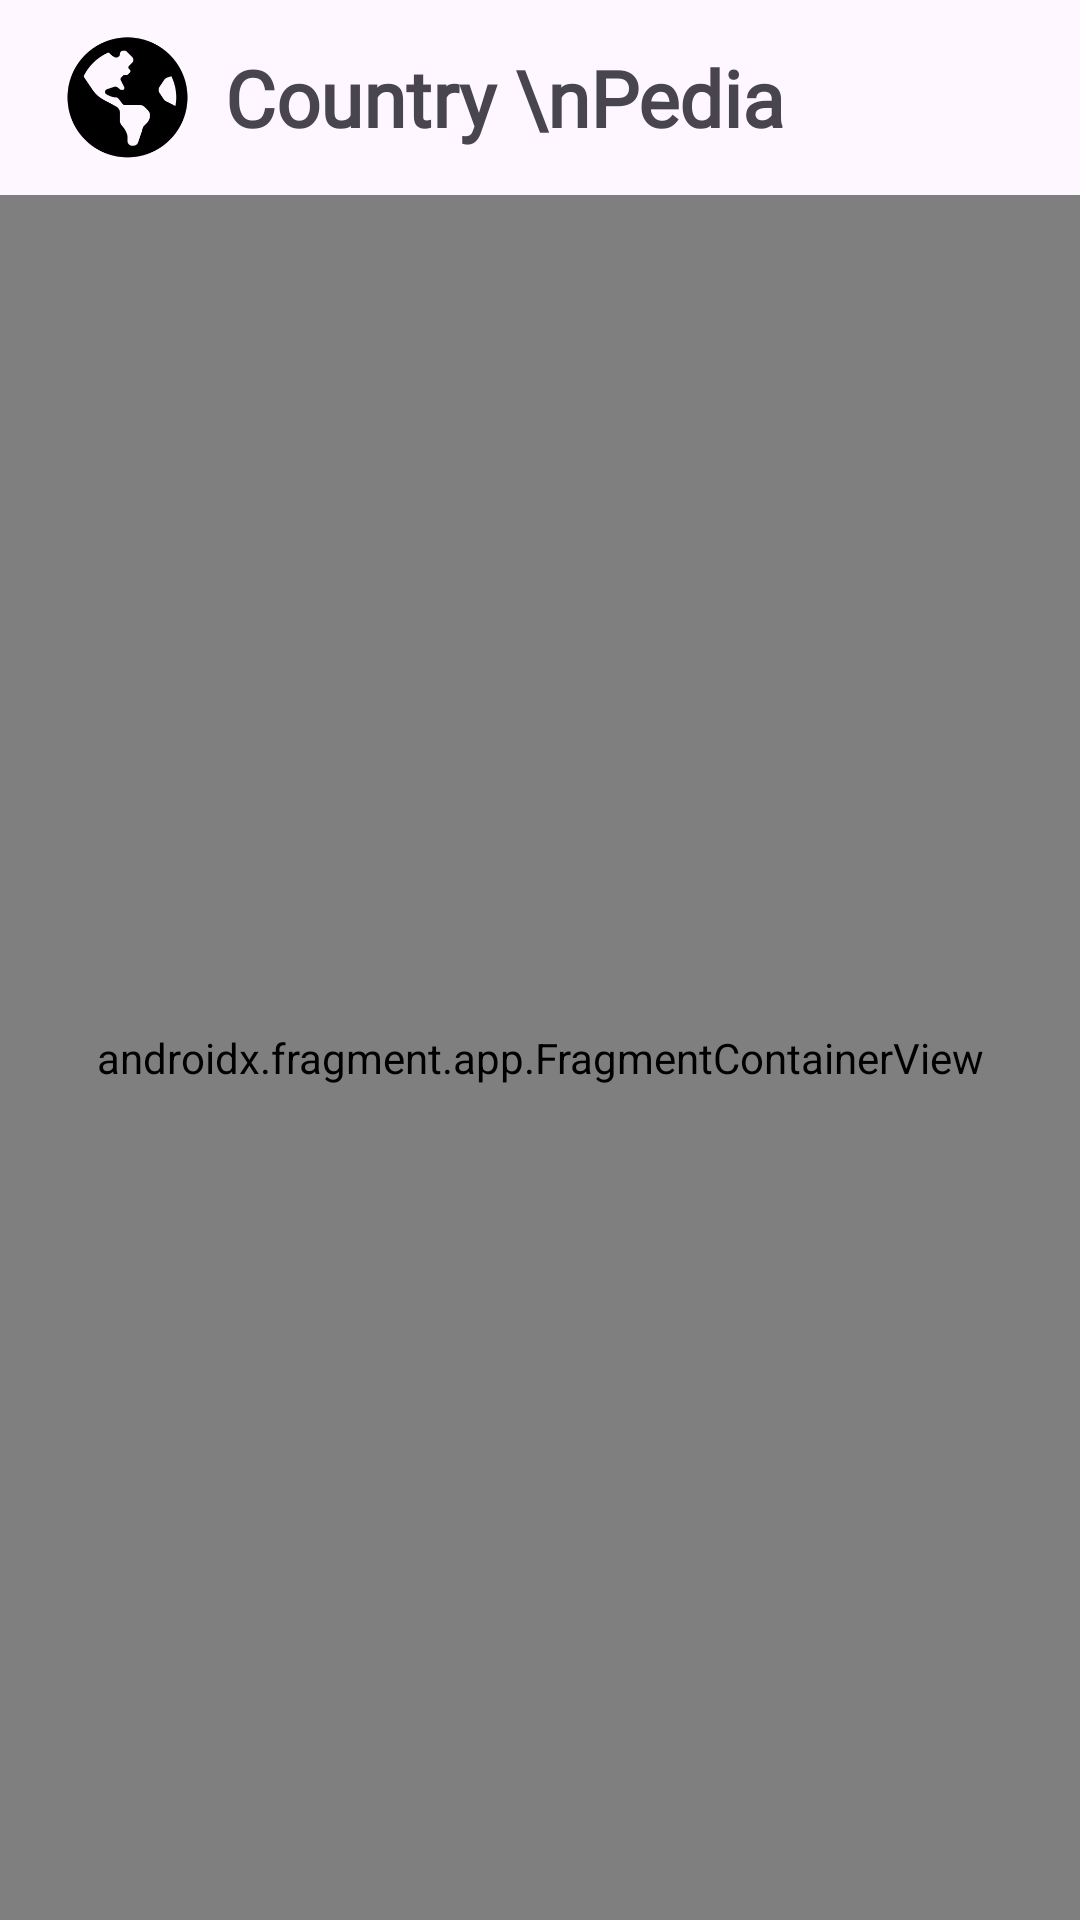

Where to tap for icons on this 1080px x 1920px app screen, as (x,y):
earth: (127,97)
